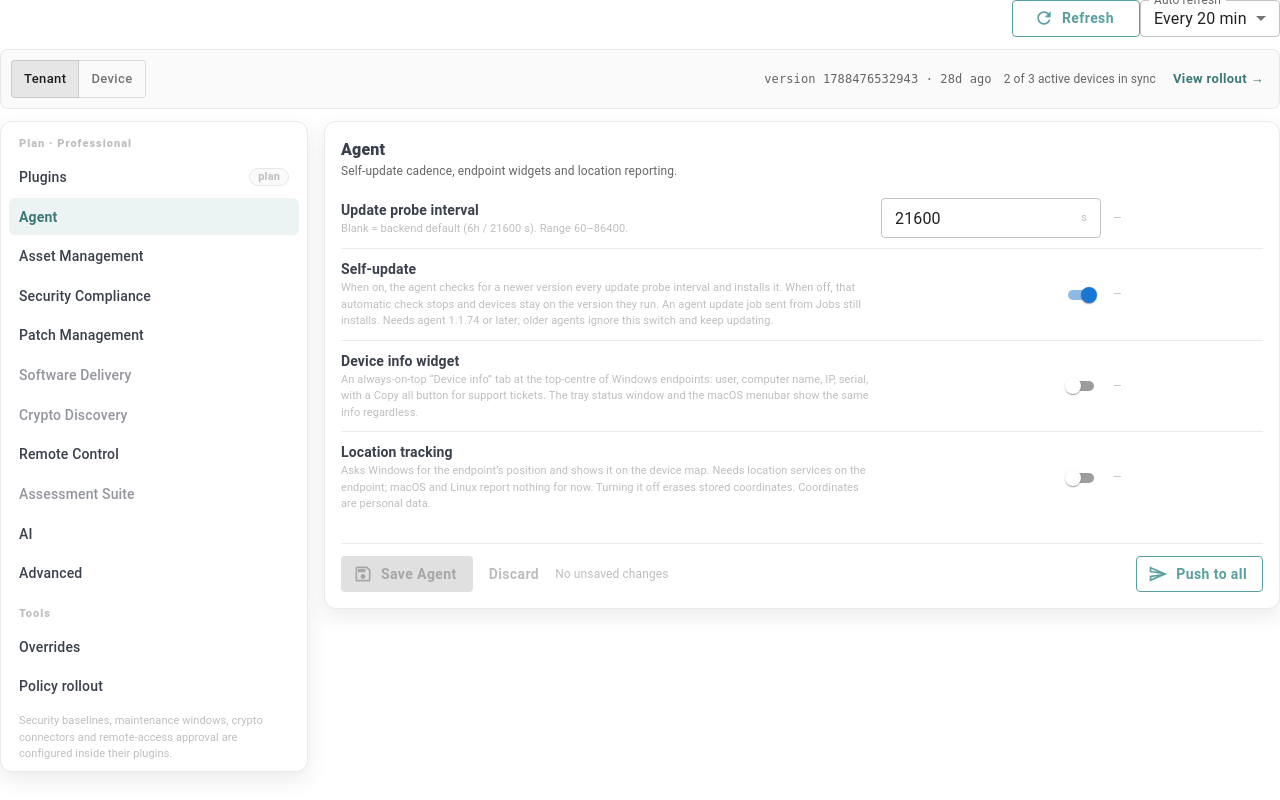
Test case: saving the tenant policy › surfaces a 409 as a warning and reloads
Replace the text in the number field named "Update probe interval" with "7200": (979, 218) x1=881 y1=198 x2=1077 y2=238
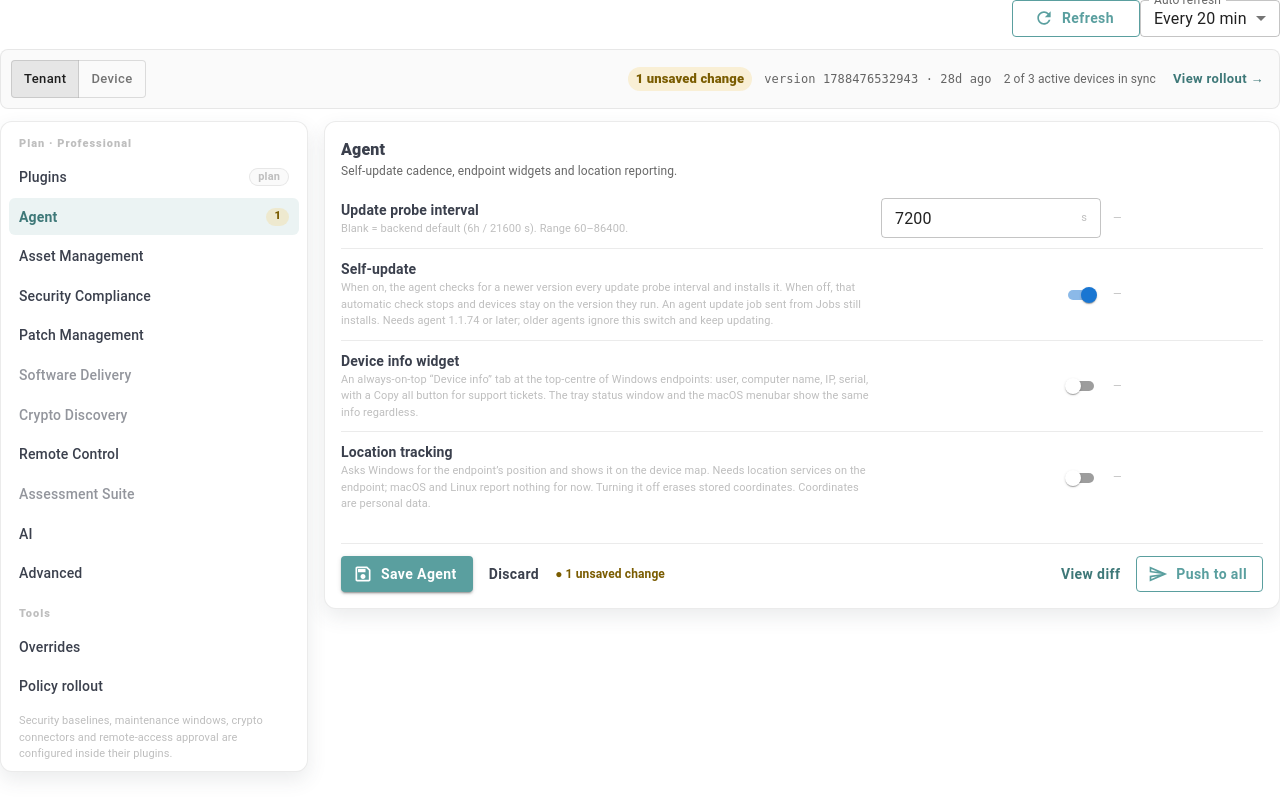
Click the button "Save Agent": (407, 574) x1=341 y1=556 x2=473 y2=592
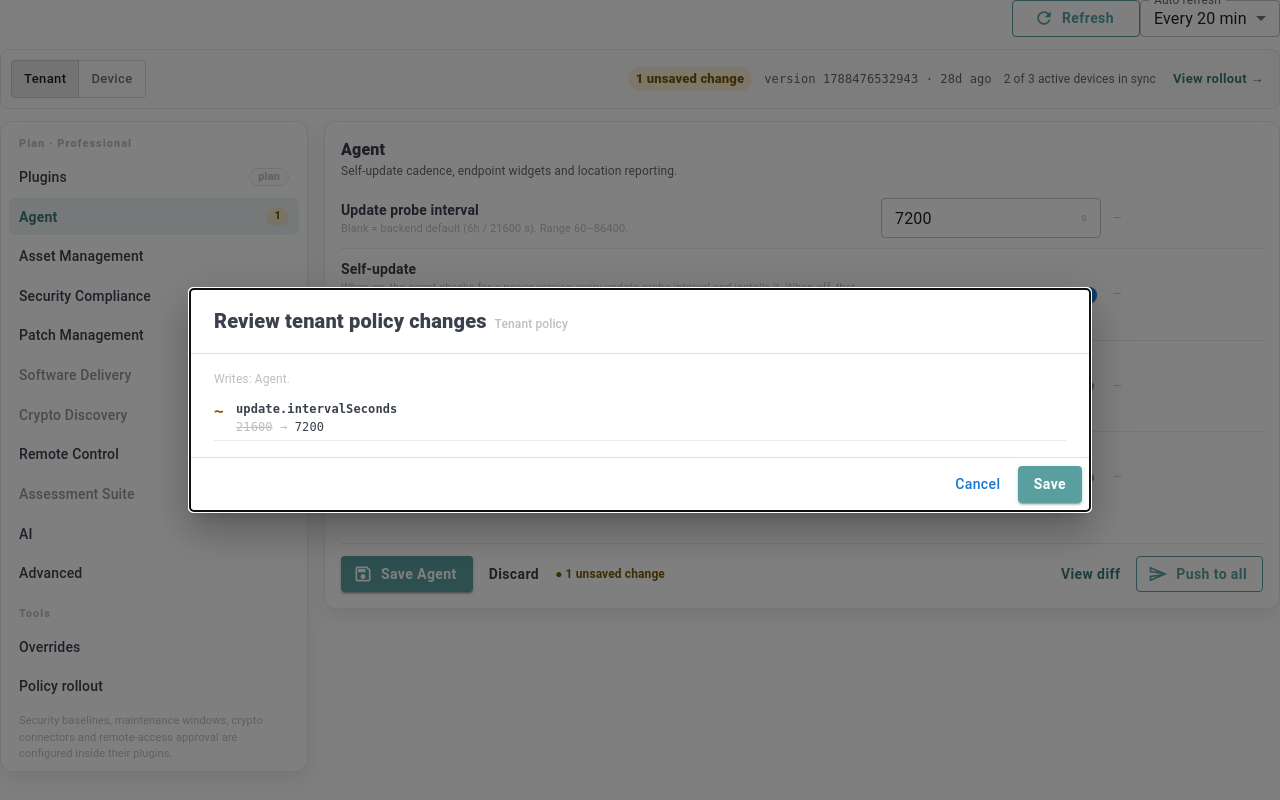
Click the button "Save": (1050, 485) x1=1018 y1=466 x2=1082 y2=503
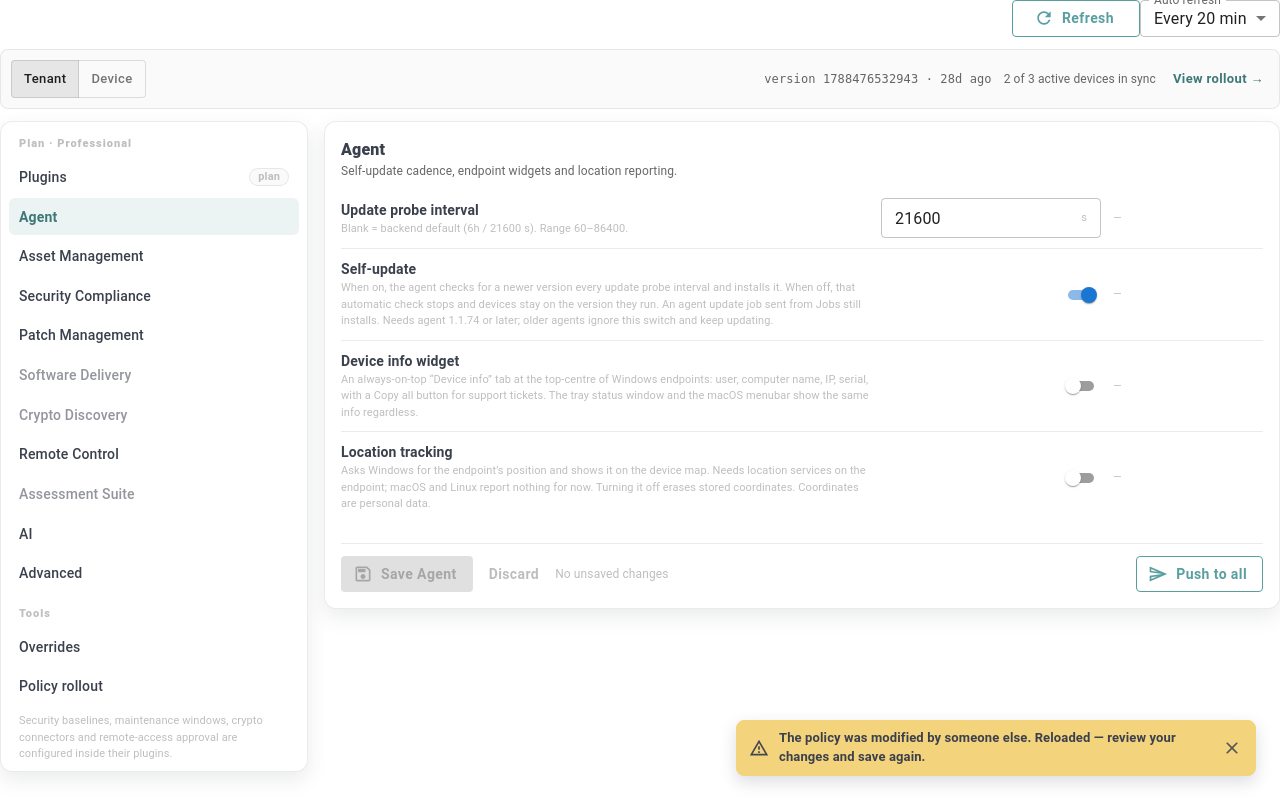
Expected: the text "modified by someone else" is shown, x1=779 y1=730 x2=1176 y2=764
